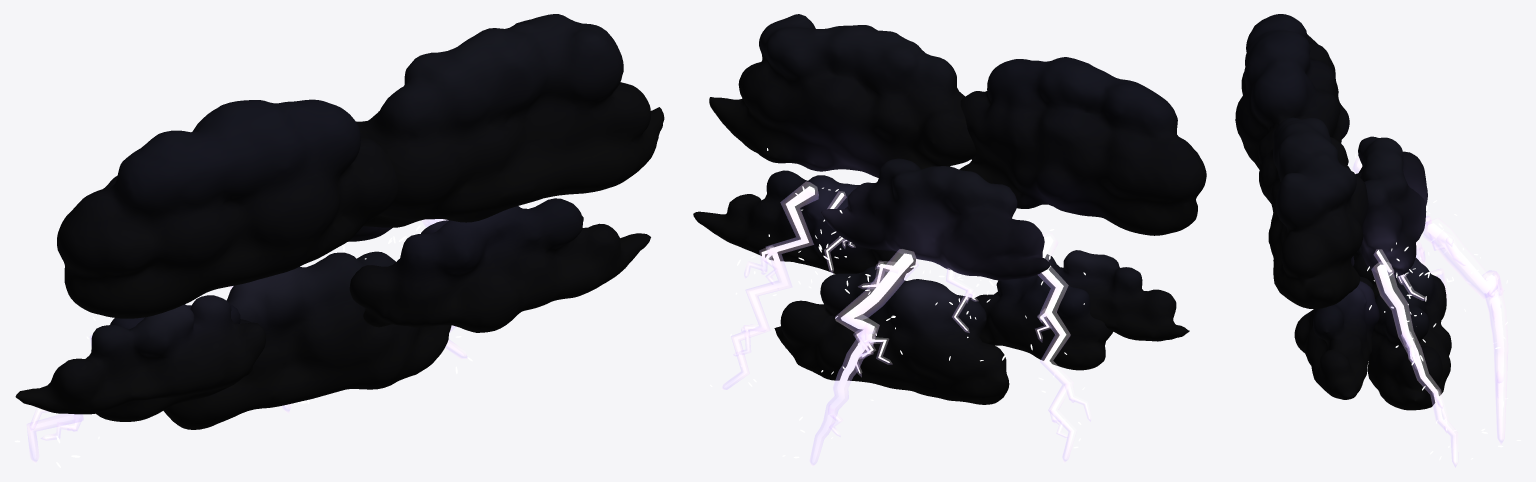
The model's file is storm_obsidian.glb.
3 views of the same model, side by side, from view 1: azimuth 30°, elevation 25°; view 2: azimuth 150°, elevation 25°; view 3: azimuth 270°, elevation 25° (orthographic). The views are drawn at different scales.
Visible parts, largest first — view 1: Clouds, Bolt_4; view 2: Clouds, Bolt_3, Bolt_1, Bolt_4, Bolt_5, Bolt_2; view 3: Clouds, Bolt_3, Bolt_1, Bolt_2, Bolt_4.
Part boxes in pixels (box(x1,y1,x2,y2)): Clouds: box(15, 14, 664, 429); Bolt_4: box(14, 317, 99, 467); Clouds: box(693, 14, 1206, 404); Bolt_3: box(782, 249, 918, 466); Bolt_1: box(710, 148, 838, 389); Bolt_4: box(1002, 219, 1091, 462); Bolt_5: box(922, 268, 993, 361); Bolt_2: box(795, 187, 855, 286); Clouds: box(1235, 14, 1451, 410); Bolt_3: box(1423, 218, 1520, 447); Bolt_1: box(1367, 242, 1473, 467); Bolt_2: box(1369, 246, 1436, 327); Bolt_4: box(1352, 153, 1448, 299).
Size of the model in its own units: 15.46 by 10.72 by 8.13.
